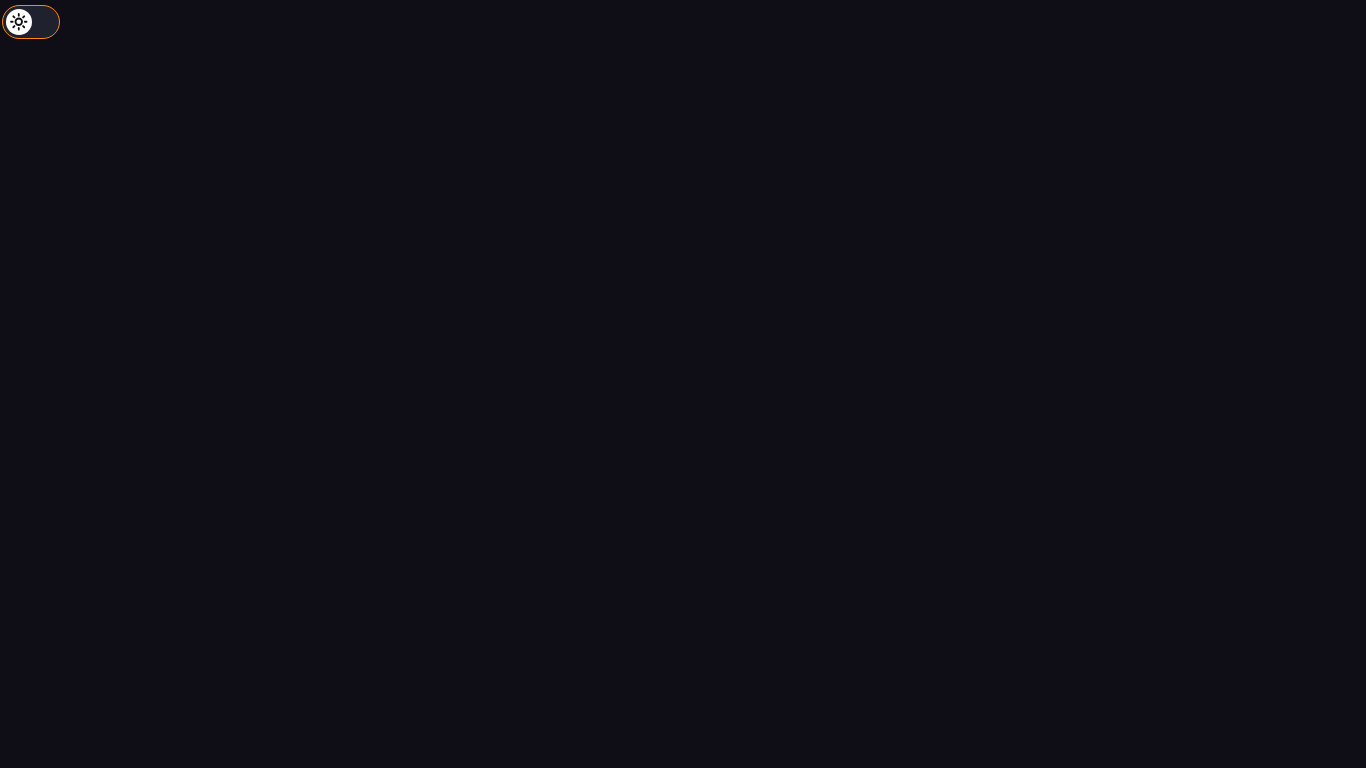
Test: ThemeToggle › o nome diz a ação e muda depois do clique
Click the button named "Ativar tema claro" at (31, 22), box [0,0,62,44]
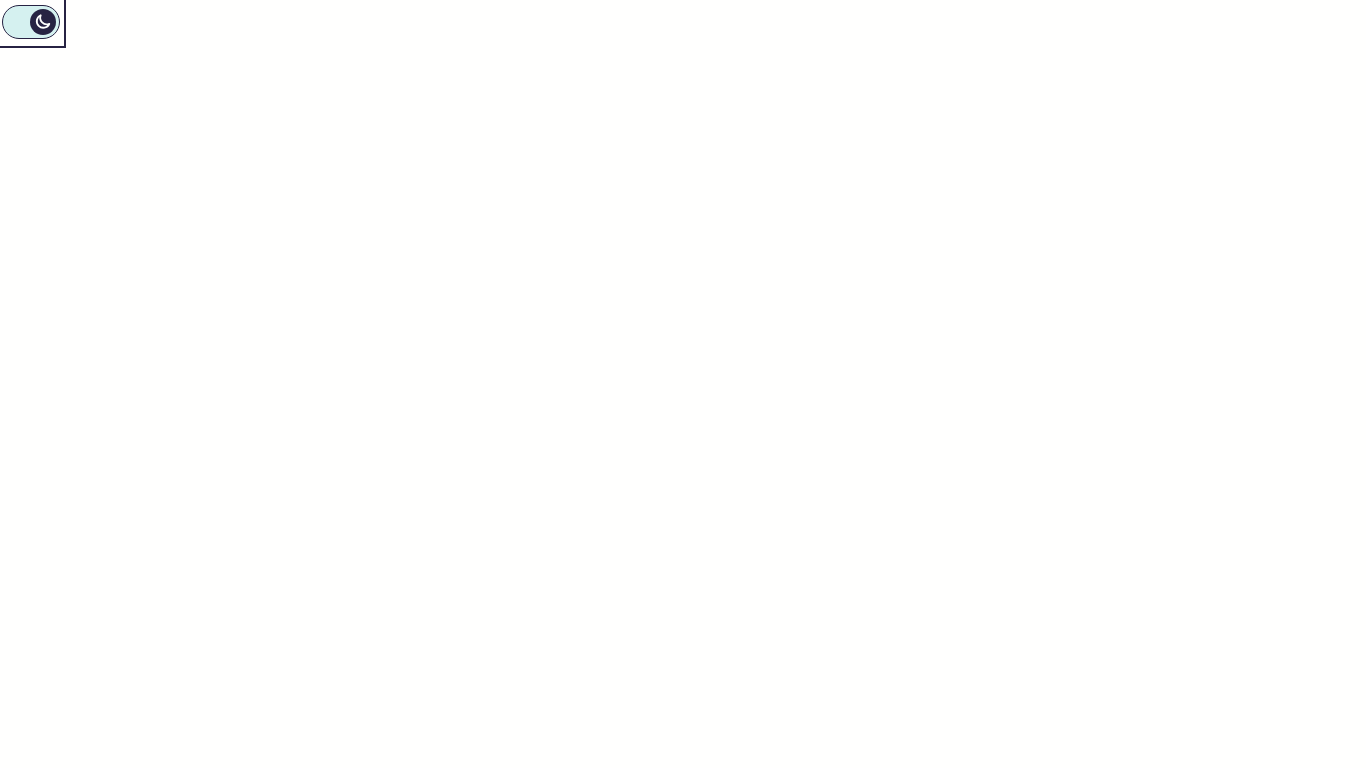
expect the button named "Ativar tema escuro" has attribute title="Ativar tema escuro": met, box [0,0,62,44]
